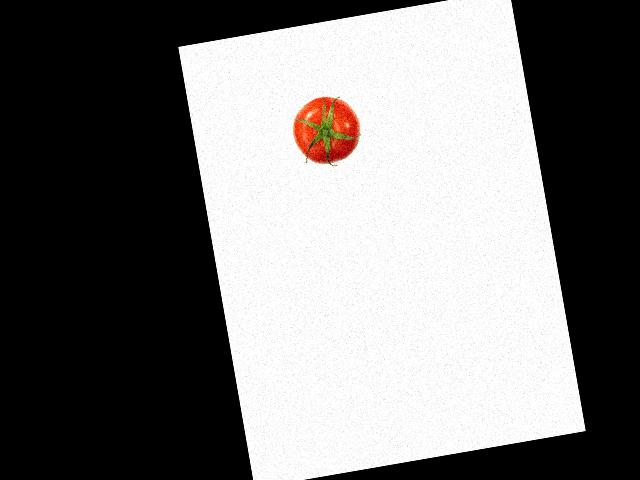tomato: (288, 90, 365, 168)
